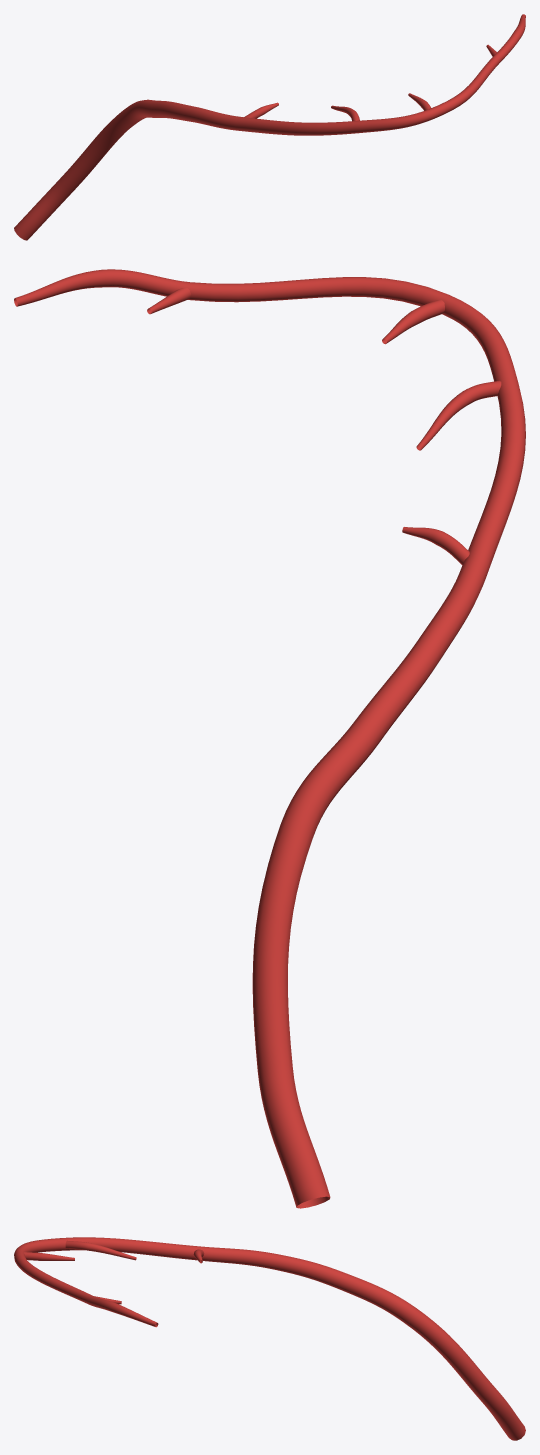
3 views of the same model, one above another, from view 1: azimuth 30°, elevation 25°; view 2: azimuth 150°, elevation 25°; view 3: azimuth 270°, elevation 25° (orthographic). The views are drawn at different scales.
Visible parts, largest first — view 1: 左侧肾上腺下动脉; view 2: 左侧肾上腺下动脉; view 3: 左侧肾上腺下动脉.
Part boxes in pixels (x1=…): 左侧肾上腺下动脉: x1=14, y1=14, x2=525, y2=240; 左侧肾上腺下动脉: x1=14, y1=269, x2=525, y2=1208; 左侧肾上腺下动脉: x1=14, y1=1237, x2=525, y2=1440.
Size of the model in its own units: 0.0732 by 0.0575 by 0.0926.
